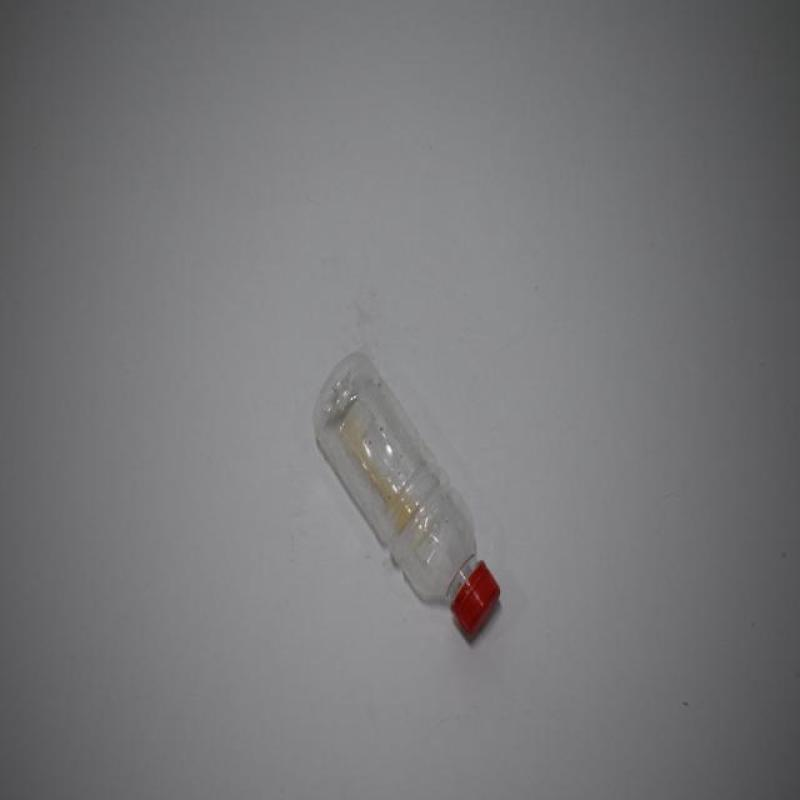botella: (313, 353, 502, 638)
